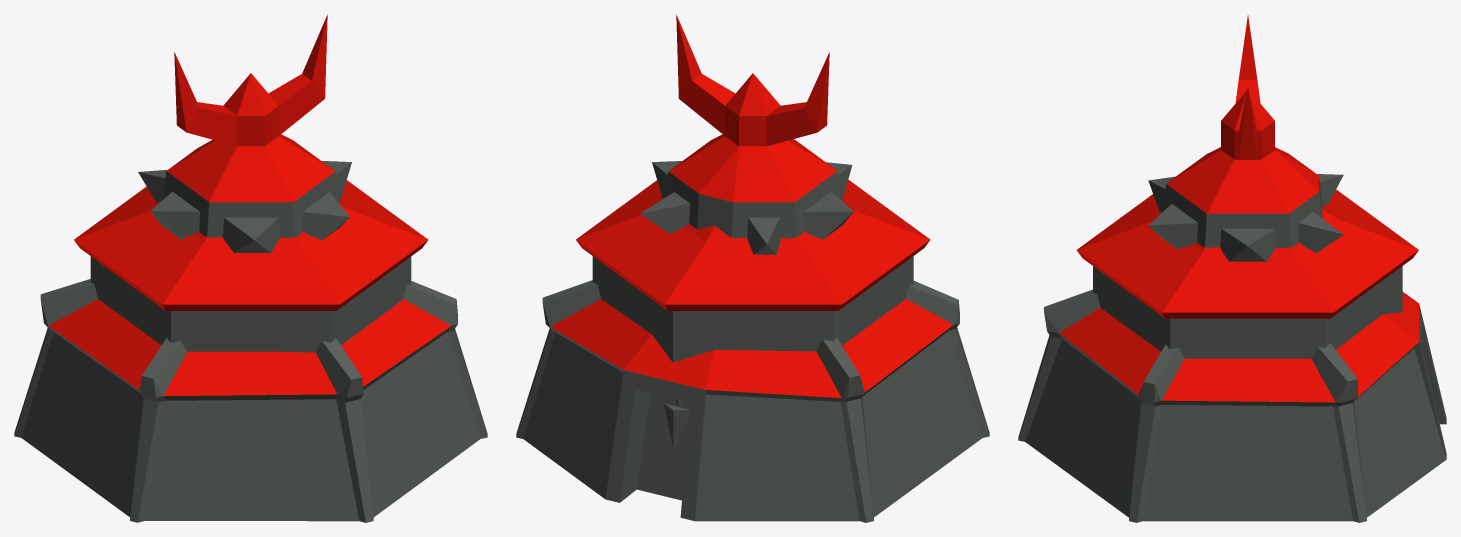
The model's file is altar.fbx.
3 views of the same model, side by side, from view 1: azimuth 30°, elevation 25°; view 2: azimuth 150°, elevation 25°; view 3: azimuth 270°, elevation 25° (orthographic). The views are drawn at different scales.
Visible parts, largest first — view 1: Barracks; view 2: Barracks; view 3: Barracks.
Part boxes in pixels (x1=…): Barracks: x1=14, y1=14, x2=487, y2=522; Barracks: x1=516, y1=14, x2=989, y2=522; Barracks: x1=1018, y1=15, x2=1446, y2=522.
Size of the model in its own units: 71.78 by 77.13 by 77.
